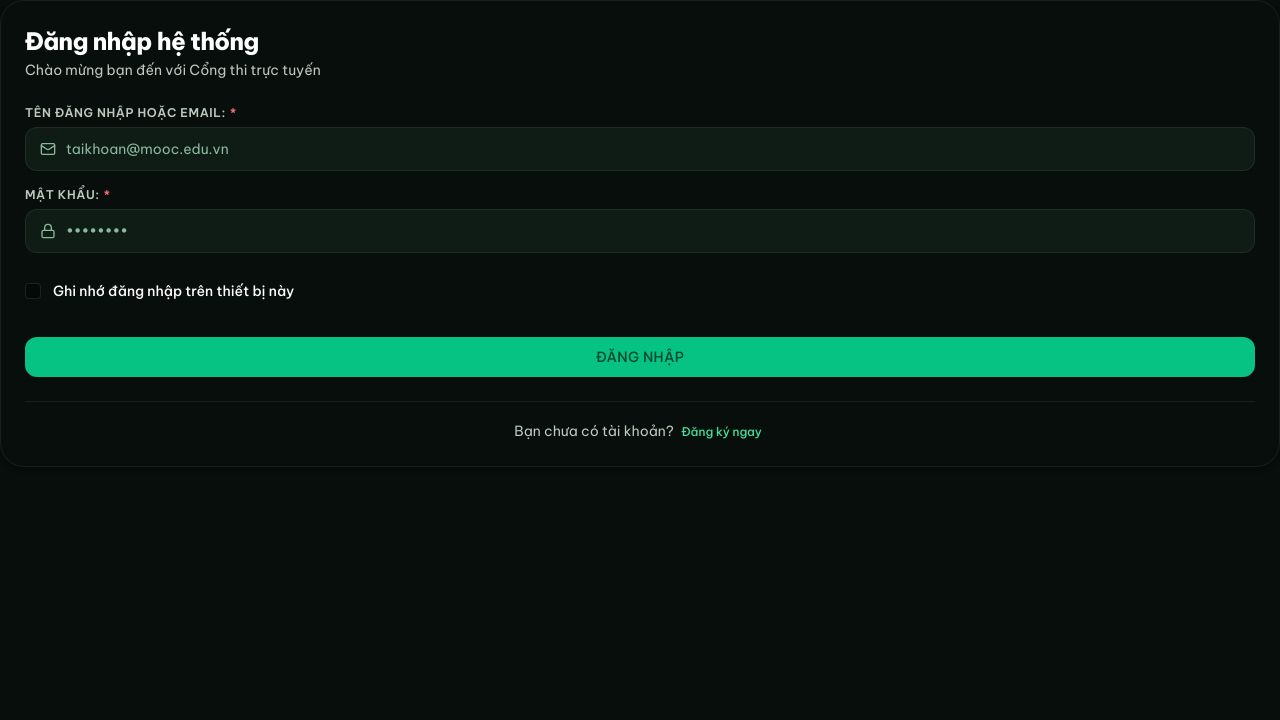
Test: LoginPage › handles login failure and displays error message
Type "wrong_user" into the field labelled "Tên đăng nhập hoặc Email: *" at (653, 149), box [66,128,1240,170]
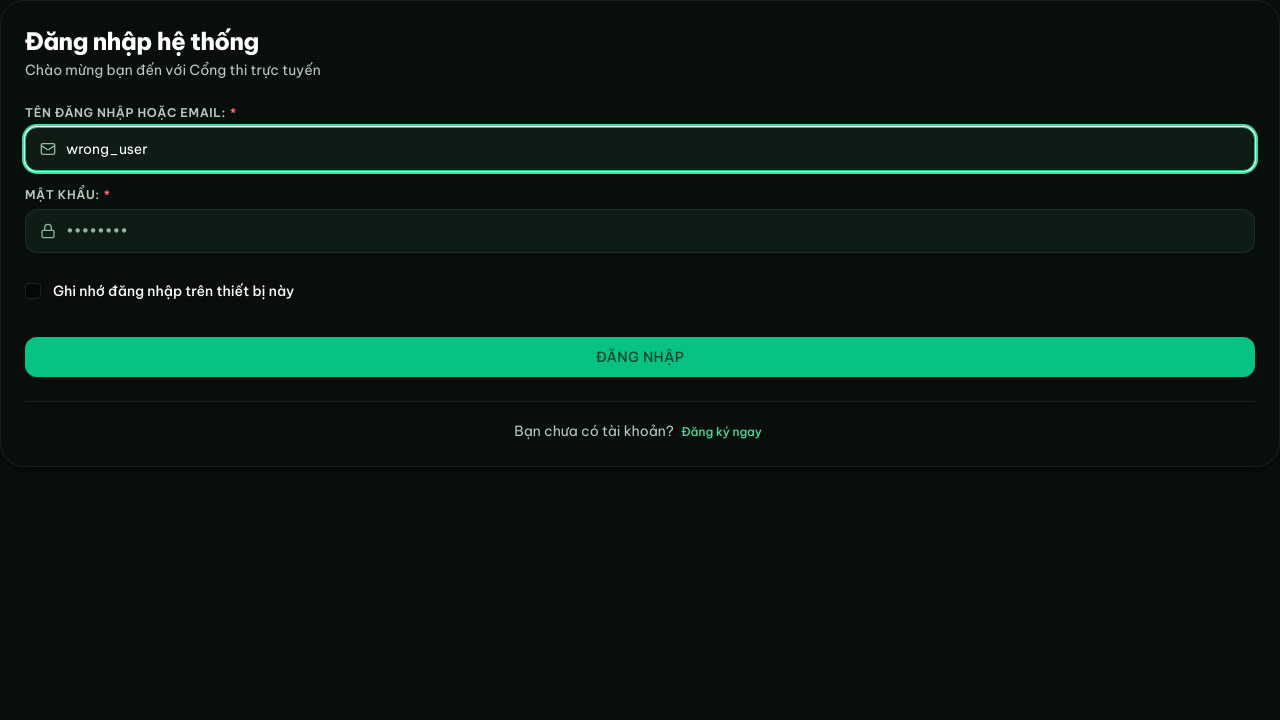
Type "wrong_pass" into the password field labelled "Mật khẩu: *" at (653, 231), box [66,210,1240,252]
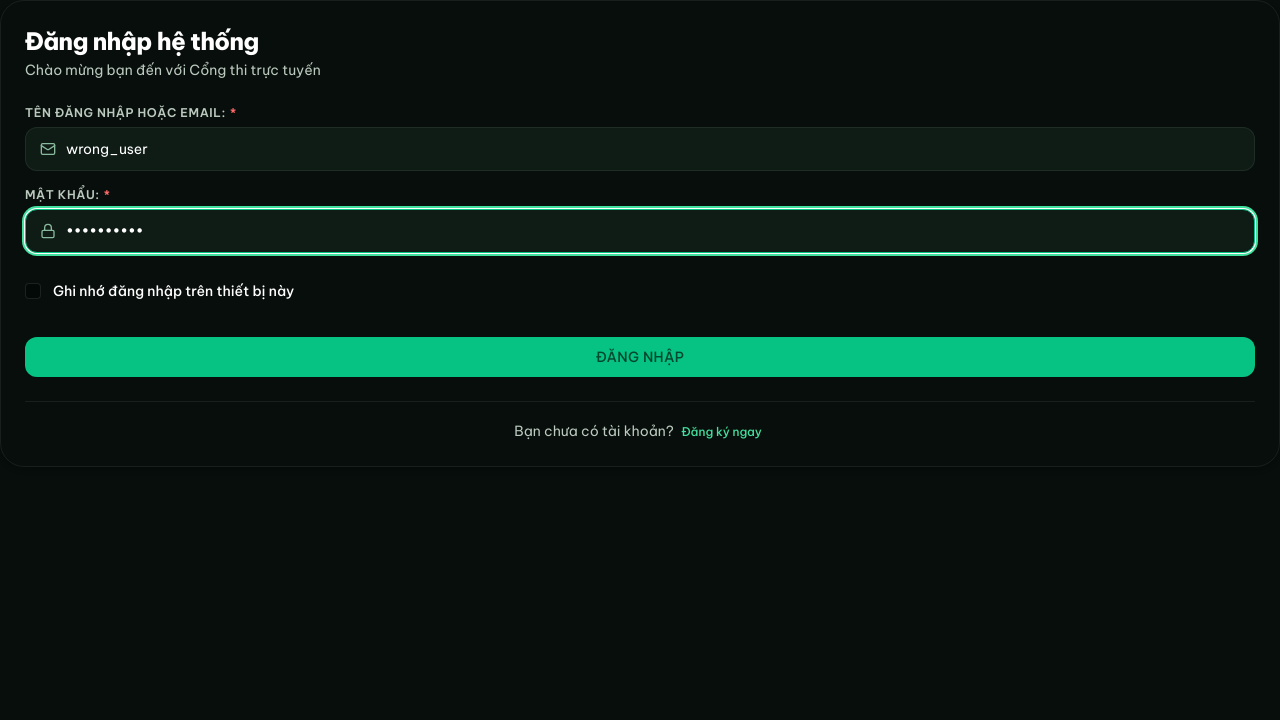
Click the button "Đăng nhập" at (640, 357), box [25,337,1255,377]
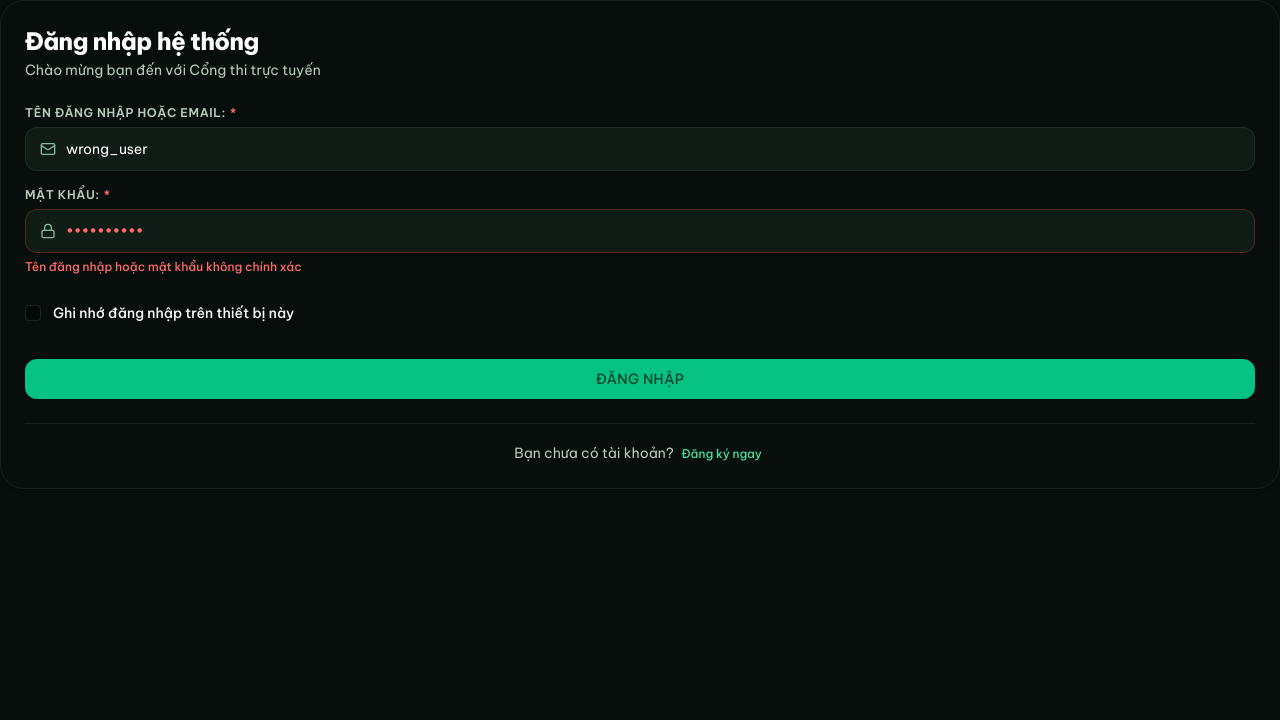
expect the text "Tên đăng nhập hoặc mật khẩu không chính xác" is shown: met, box [25,259,302,274]
